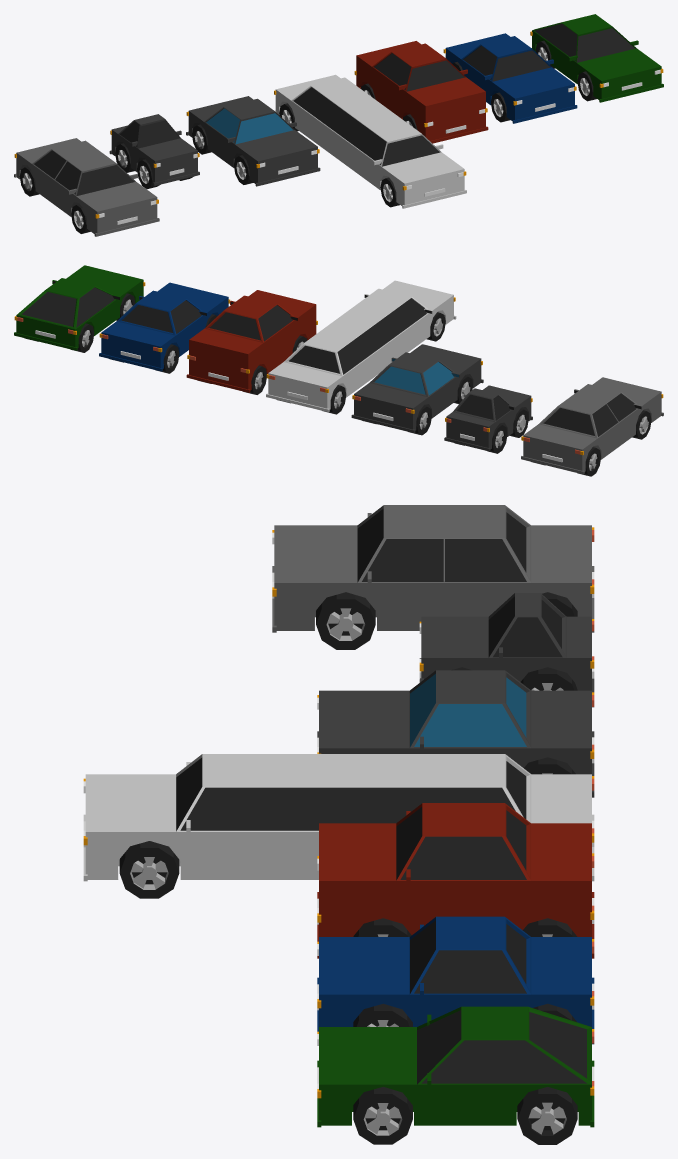
The model's file is FirstCars.fbx.
3 renders of one model, top to bottom at view 1: azimuth 30°, elevation 25°; view 2: azimuth 150°, elevation 25°; view 3: azimuth 270°, elevation 25°, orthographic. The views are drawn at different scales.
Parts seen in each view (by area): view 1: 1.001, 1.005, 1.002, 1, 1.006, 1.003, 1.004; view 2: 1.001, 1.002, 1.005, 1, 1.003, 1.006, 1.004; view 3: 1.001, 1.005, 1.002, 1.006, 1.003, 1, 1.004.
Boxes of the visible parts, left/top/right/bottom form: 1.001: left=274, top=74, right=466, bottom=208; 1.005: left=14, top=138, right=159, bottom=236; 1.002: left=354, top=41, right=488, bottom=143; 1: left=186, top=96, right=320, bottom=186; 1.006: left=530, top=14, right=663, bottom=102; 1.003: left=443, top=33, right=577, bottom=123; 1.004: left=109, top=114, right=199, bottom=189; 1.001: left=266, top=280, right=456, bottom=414; 1.002: left=186, top=290, right=317, bottom=394; 1.005: left=521, top=377, right=663, bottom=476; 1: left=351, top=344, right=483, bottom=435; 1.003: left=99, top=282, right=230, bottom=373; 1.006: left=14, top=265, right=145, bottom=352; 1.004: left=444, top=385, right=532, bottom=453; 1.001: left=83, top=754, right=594, bottom=898; 1.005: left=272, top=505, right=594, bottom=649; 1.002: left=317, top=803, right=594, bottom=958; 1.006: left=317, top=1006, right=594, bottom=1144; 1.003: left=317, top=916, right=594, bottom=1044; 1: left=317, top=670, right=594, bottom=797; 1.004: left=419, top=593, right=594, bottom=707.
Bounding box in the file's own units: 115 × 12.17 × 44.13.
